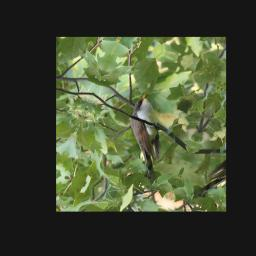Cuckoo: (104, 91, 185, 183)
